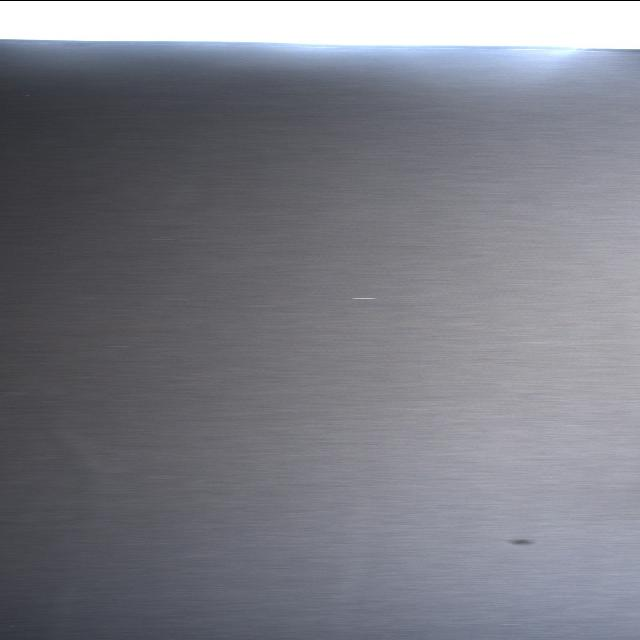whiteDefect: (348, 296, 384, 299)
